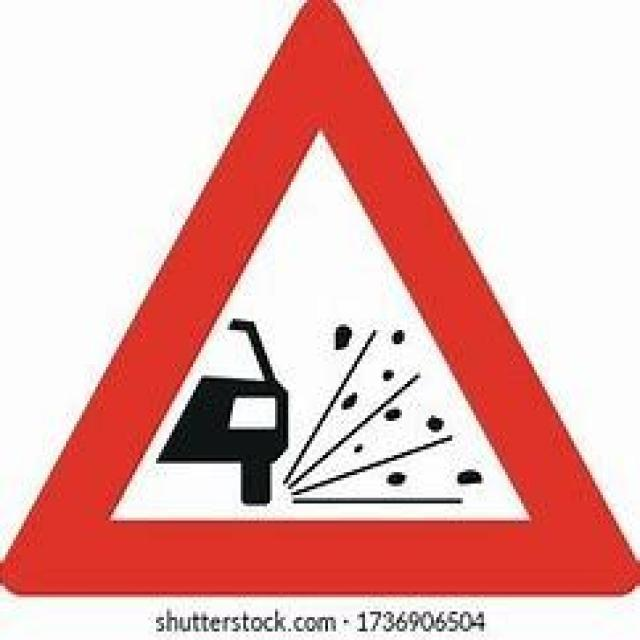loose gravel: (20, 20, 626, 599)
